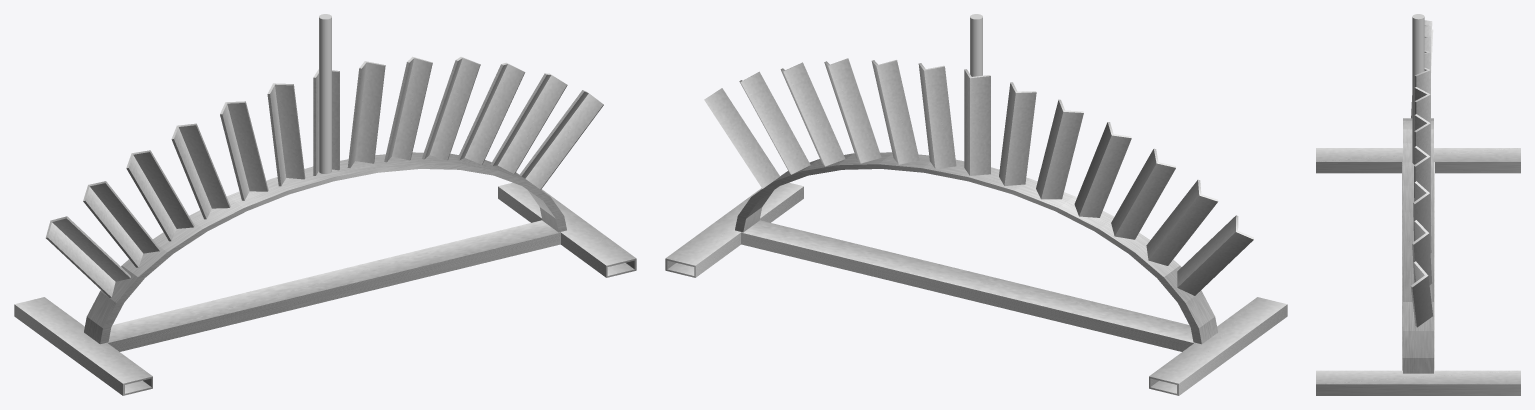
Rendered from 30mmCandleRack2.fbx.
3 views of the same model, side by side, from view 1: azimuth 30°, elevation 25°; view 2: azimuth 150°, elevation 25°; view 3: azimuth 270°, elevation 25° (orthographic). The views are drawn at different scales.
Parts seen in each view (by area): view 1: Arc Bottom, Arc, Support Leg.001, Support Leg, Candle Holder.012, Candle Holder.005, Candle Holder.011, Candle Holder.006, Candle Holder.003, Candle Holder.004, Candle Holder.010, Candle Holder.001 (+6 smaller); view 2: Arc Bottom, Arc, Support Leg.001, Support Leg, Candle Holder, Candle Holder.007, Candle Holder.001, Candle Holder.002, Candle Holder.008, Candle Holder.003, Candle Holder.009, Candle Holder.004 (+6 smaller); view 3: Support Leg, Support Leg.001, Arc, 30mmCandle, Candle Holder.012, Candle Holder.011, Candle Holder.010, Candle Holder.009, Candle Holder.008, Candle Holder.007, Arc Bottom, Candle Holder.
Boxes of the visible parts, <box> form: Arc Bottom: <box>107,220,560,351</box>; Arc: <box>84,152,566,344</box>; Support Leg.001: <box>14,297,152,395</box>; Support Leg: <box>498,182,636,277</box>; Candle Holder.012: <box>519,90,603,189</box>; Candle Holder.005: <box>45,216,130,297</box>; Candle Holder.011: <box>490,73,567,174</box>; Candle Holder.006: <box>83,181,160,267</box>; Candle Holder.003: <box>171,123,230,219</box>; Candle Holder.004: <box>126,150,194,241</box>; Candle Holder.010: <box>457,62,525,164</box>; Candle Holder.001: <box>267,83,305,186</box>; Arc Bottom: <box>741,220,1194,351</box>; Arc: <box>735,152,1217,344</box>; Support Leg.001: <box>1149,297,1287,395</box>; Support Leg: <box>665,182,803,277</box>; Candle Holder: <box>964,69,990,175</box>; Candle Holder.007: <box>918,63,956,169</box>; Candle Holder.001: <box>999,82,1036,185</box>; Candle Holder.002: <box>1036,99,1083,199</box>; Candle Holder.008: <box>871,60,919,164</box>; Candle Holder.003: <box>1074,122,1131,217</box>; Candle Holder.009: <box>824,58,881,163</box>; Candle Holder.004: <box>1111,148,1176,239</box>; Support Leg: <box>1316,370,1520,395</box>; Support Leg.001: <box>1316,148,1520,173</box>; Arc: <box>1403,118,1433,373</box>; 30mmCandle: <box>1412,14,1424,163</box>; Candle Holder.012: <box>1410,261,1432,327</box>; Candle Holder.011: <box>1412,220,1432,284</box>; Candle Holder.010: <box>1413,181,1431,252</box>; Candle Holder.009: <box>1414,146,1431,225</box>; Candle Holder.008: <box>1414,114,1430,187</box>; Candle Holder.007: <box>1414,87,1430,146</box>; Arc Bottom: <box>1402,162,1434,370</box>; Candle Holder: <box>1414,68,1430,94</box>.
Size of the model in its own units: 2.95 by 1.41 by 1.
14 materials, 14 textured.
